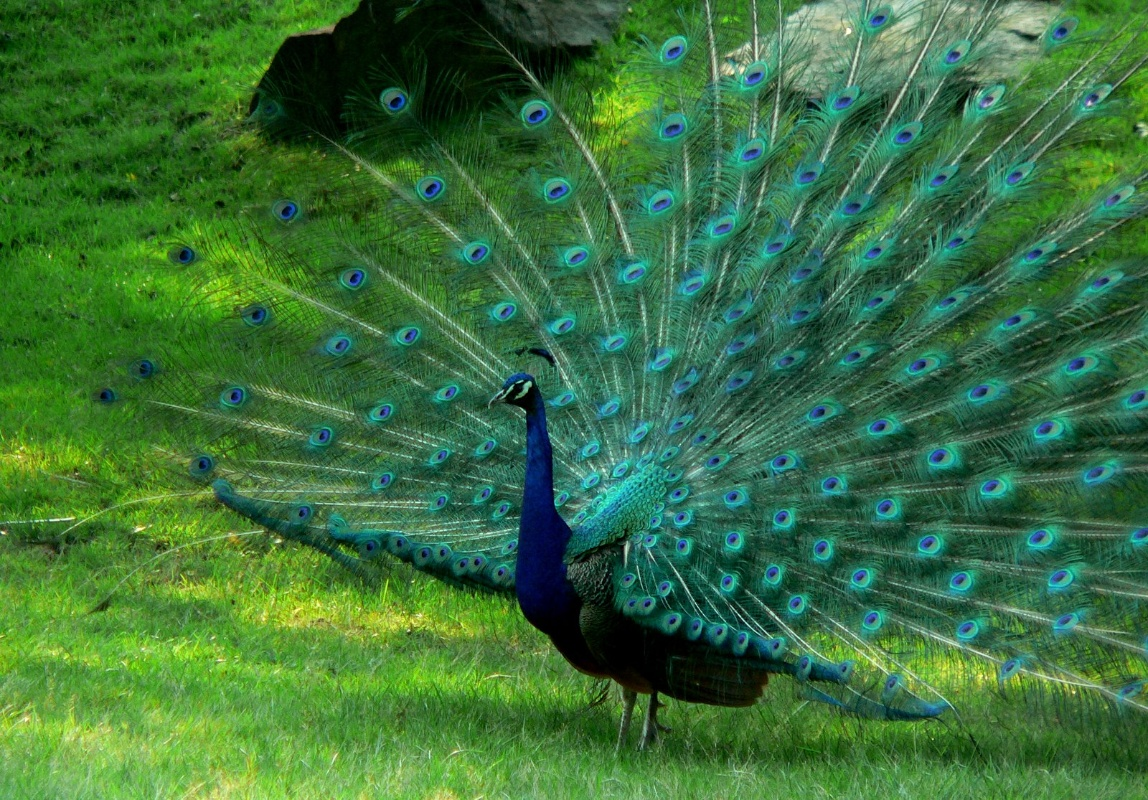pavoreal: (459, 338, 710, 685)
